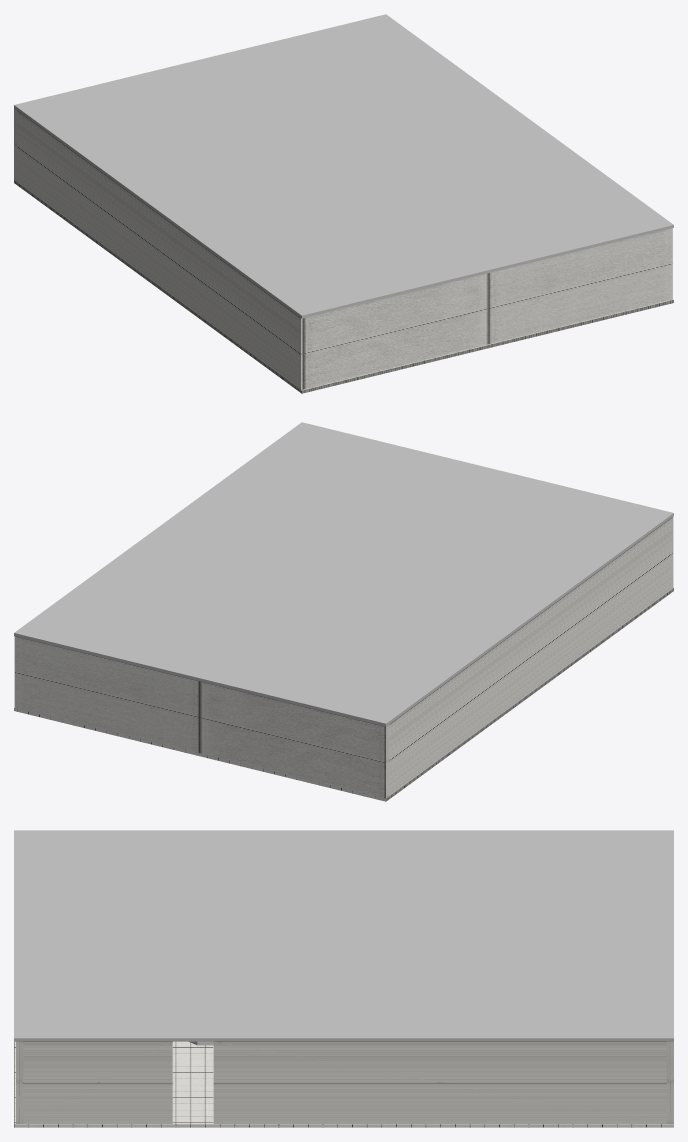
Rendered from NEW MAP 2.fbx.
3 views of the same model, one above another, from view 1: azimuth 30°, elevation 25°; view 2: azimuth 150°, elevation 25°; view 3: azimuth 270°, elevation 25° (orthographic). The views are drawn at different scales.
Visible parts, largest first — view 1: C.001, Cube.041, F.001; view 2: C.001, Cube.041, F.001; view 3: C.001, Cube.041, F.001.
Part boxes in pixels (bbox=[...]): C.001: bbox=[14, 14, 673, 318]; Cube.041: bbox=[14, 108, 672, 389]; F.001: bbox=[14, 180, 673, 393]; C.001: bbox=[14, 422, 673, 726]; Cube.041: bbox=[14, 517, 673, 798]; F.001: bbox=[14, 588, 673, 801]; C.001: bbox=[14, 830, 673, 1041]; Cube.041: bbox=[16, 1041, 673, 1123]; F.001: bbox=[14, 1041, 673, 1127].
Bounding box in the file's own units: 1297 × 1738 × 260.
